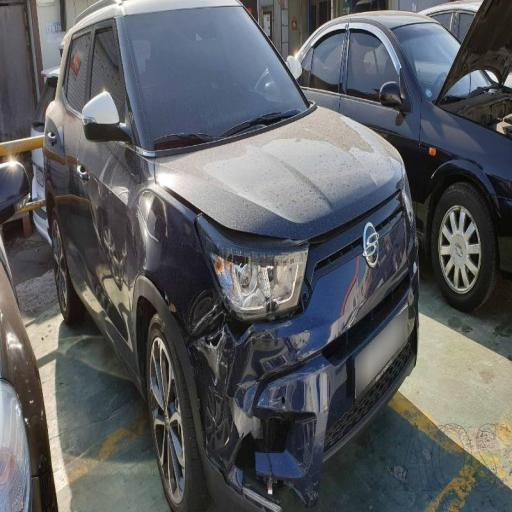broken: (181, 289, 313, 472)
scratch: (290, 107, 398, 215)
